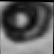correct: (0, 0, 54, 46)
